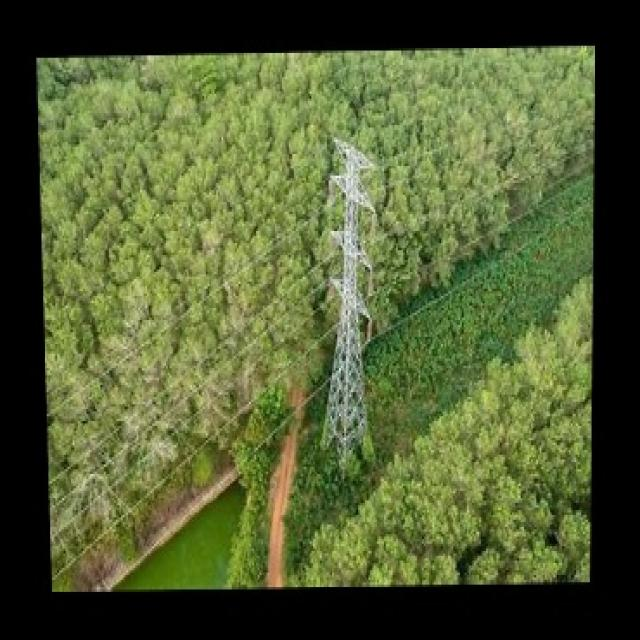utility poles: (320, 128, 387, 470)
